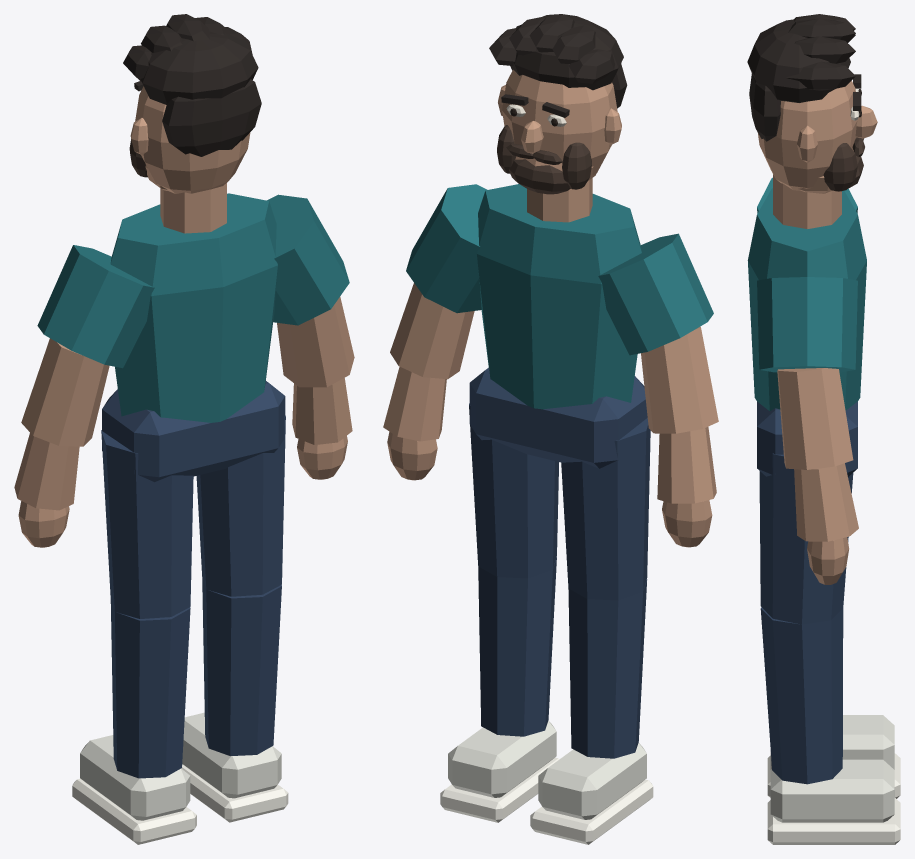
File: francisco-v1.glb
3 views of the same model, side by side, from view 1: azimuth 30°, elevation 25°; view 2: azimuth 150°, elevation 25°; view 3: azimuth 270°, elevation 25° (orthographic).
Parts seen in each view (by area): view 1: TShirt, Head, Thigh_L, Shin_L, Shin_R, Thigh_R, Hips, Sleeve_L, Sleeve_R, Arm_L, Sneaker_L, Arm_R (+8 smaller); view 2: TShirt, Head, Thigh_L, Shin_L, Shin_R, Thigh_R, Hips, Sleeve_L, Sleeve_R, Arm_L, Sneaker_R, Sneaker_L (+8 smaller); view 3: Head, Shin_R, TShirt, Sleeve_R, Thigh_R, Arm_R, Sneaker_R, Forearm_R, Sole_R, Neck, Sneaker_L, Hips (+2 smaller).
Boxes of the visible parts, box(x1,y1,x2,y2) form: TShirt: box(110, 193, 277, 422); Head: box(123, 14, 261, 193); Thigh_L: box(101, 430, 193, 618); Shin_L: box(110, 600, 190, 778); Shin_R: box(202, 578, 281, 755); Thigh_R: box(196, 415, 285, 596); Hips: box(102, 381, 285, 482); Sleeve_L: box(37, 245, 154, 368); Sleeve_R: box(267, 194, 349, 325); Arm_L: box(21, 338, 109, 446); Sneaker_L: box(80, 735, 190, 820); Arm_R: box(277, 296, 354, 387); TShirt: box(476, 184, 641, 409); Head: box(489, 14, 627, 194); Thigh_L: box(561, 418, 650, 600); Shin_L: box(568, 579, 647, 758); Shin_R: box(478, 557, 556, 736); Thigh_R: box(469, 403, 558, 578); Hips: box(469, 367, 647, 468); Sleeve_L: box(598, 233, 713, 355); Sleeve_R: box(406, 184, 487, 313); Arm_L: box(641, 326, 718, 433); Sneaker_R: box(448, 721, 556, 797); Sneaker_L: box(538, 743, 646, 819); Head: box(747, 14, 877, 193); Shin_R: box(760, 607, 843, 784); TShirt: box(747, 188, 866, 410); Sleeve_R: box(757, 277, 857, 372); Thigh_R: box(759, 453, 853, 624); Arm_R: box(777, 368, 853, 469); Sneaker_R: box(770, 759, 894, 822); Forearm_R: box(794, 463, 858, 541); Sole_R: box(767, 798, 900, 844); Neck: box(773, 174, 841, 228); Sneaker_L: box(770, 715, 894, 769); Hips: box(757, 401, 857, 476).
Size of the model in its own units: 0.835 by 1.9 by 0.334.
